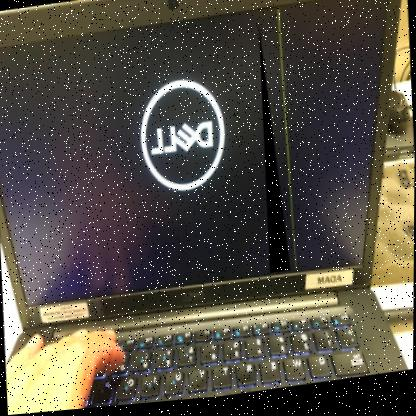lines: (255, 9, 299, 280)
